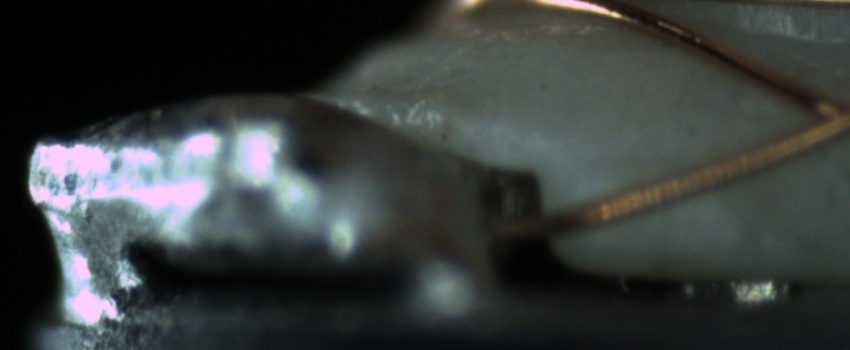CL: (770, 77, 850, 152)
